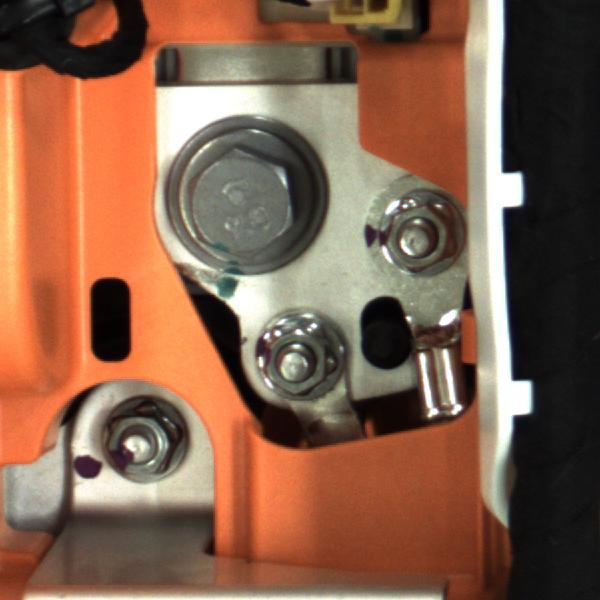nut_b: (159, 107, 347, 277)
screw_s: (240, 314, 353, 408), (92, 405, 198, 481), (371, 189, 457, 272)
